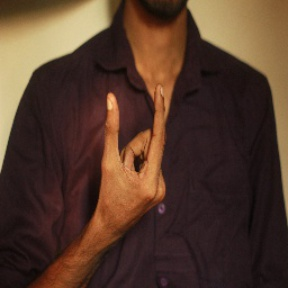U: (92, 89, 182, 221)
